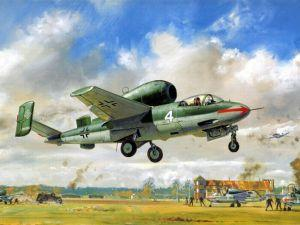airplane: (12, 77, 267, 165)
